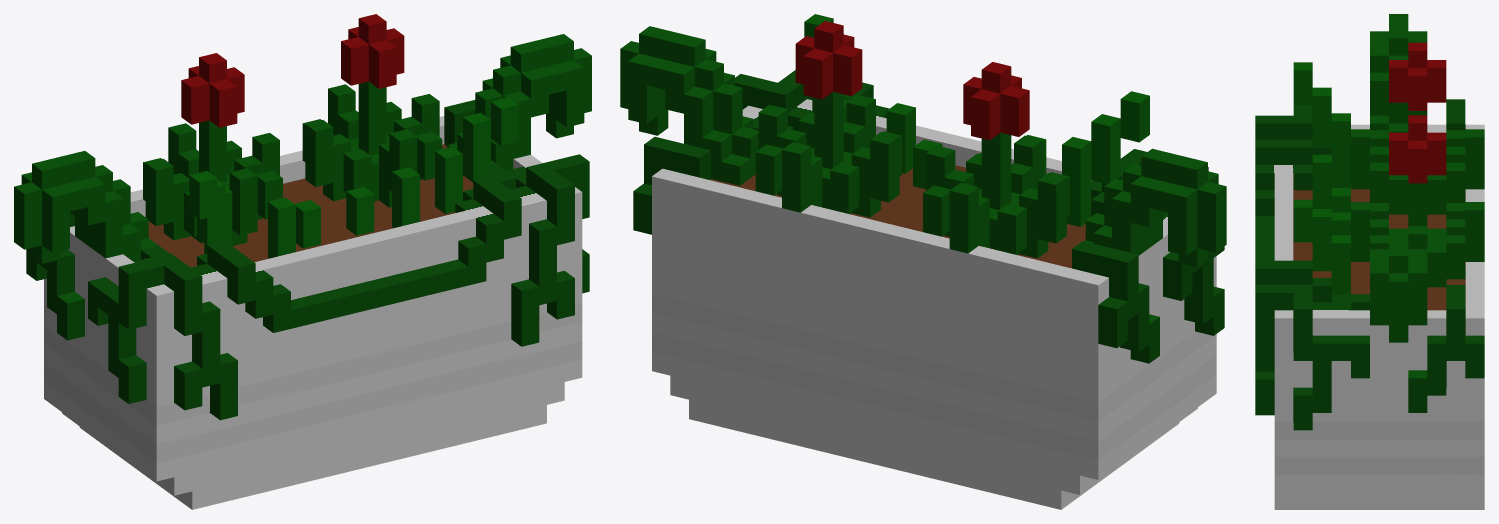
File: Wall Planter Box Final.fbx
3 renders of one model, left to right at view 1: azimuth 30°, elevation 25°; view 2: azimuth 150°, elevation 25°; view 3: azimuth 270°, elevation 25°, orthographic. The views are drawn at different scales.
Parts seen in each view (by area): view 1: Polygon; view 2: Polygon; view 3: Polygon.
Part boxes in pixels (x1,y1,x2,y2): Polygon: (14,14,591,509); Polygon: (620,14,1226,509); Polygon: (1255,14,1484,509).
Bounding box in the file's own units: 3.2 × 2 × 1.2.
1 material, 1 textured.
